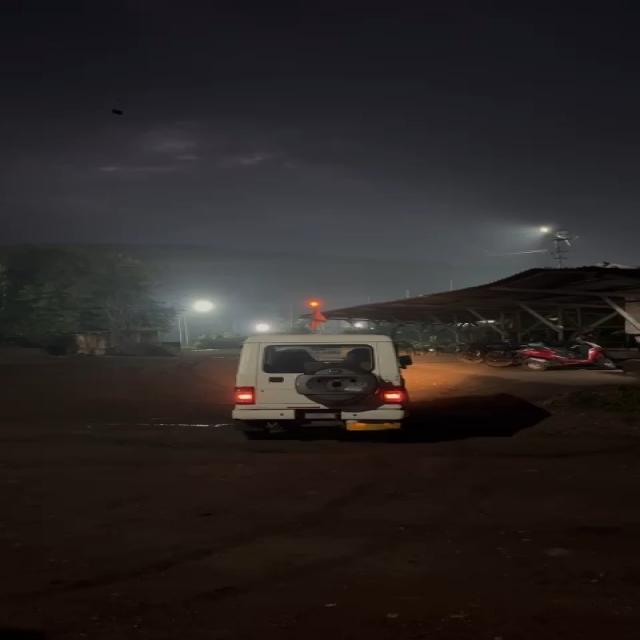light_vehicle: (227, 335, 418, 434)
